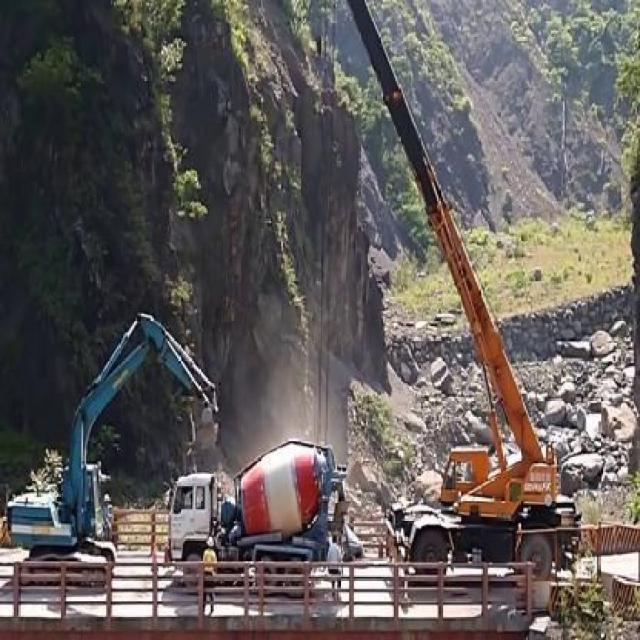Excavator: (14, 310, 218, 585)
Mobile Crane: (346, 1, 580, 573)
